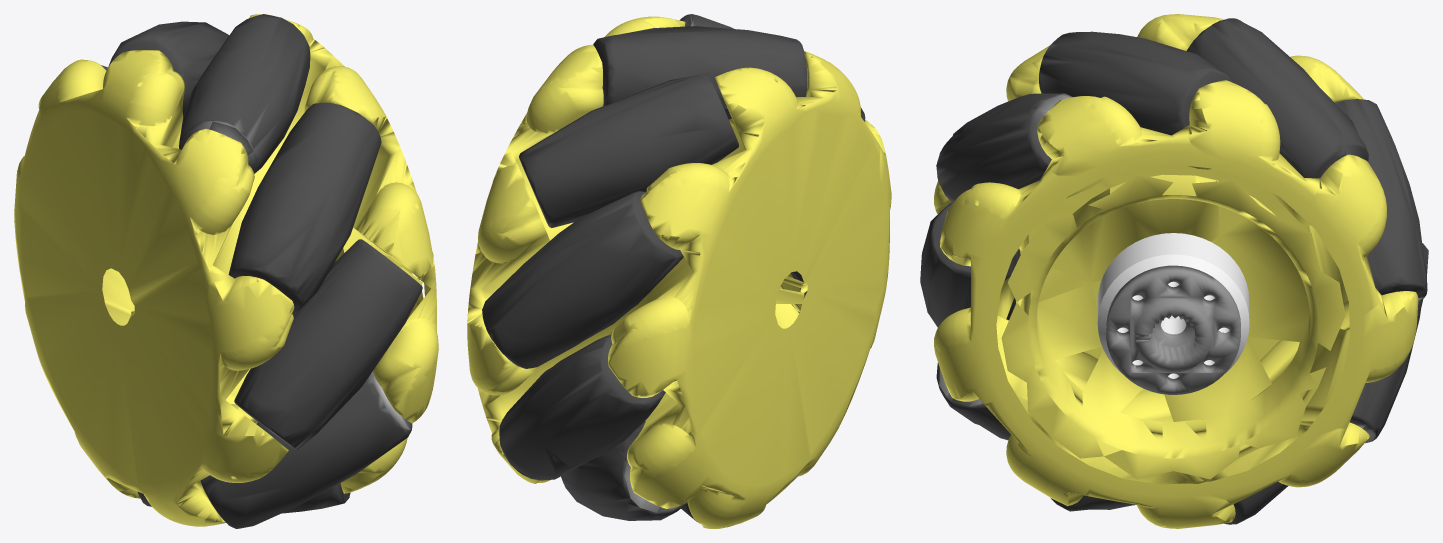
File: rear_right_wheel_link.dae
The picture shows the model from 3 angles, left to right: view 1: azimuth 30°, elevation 25°; view 2: azimuth 150°, elevation 25°; view 3: azimuth 270°, elevation 25°; orthographic projection.
Visible parts, largest first — view 1: node19, node1, node15, node17, node5, node3, node7; view 2: node19, node13, node3, node11, node17, node9; view 3: node19, node20, node17, node3, node15, node13, node0, node1, node11, node5, node9, node7.
Boxes of the visible parts, x1,y1,x2,y2 form: node19: (14,14,438,526); node1: (234,239,422,449); node15: (228,102,381,313); node17: (179,14,310,173); node5: (200,372,412,528); node3: (108,21,229,116); node7: (137,483,350,513); node19: (467,16,891,528); node13: (482,191,683,368); node3: (519,74,738,227); node11: (499,334,665,480); node17: (593,26,807,119); node9: (561,421,687,520); node19: (934,14,1418,528); node20: (1106,265,1240,394); node17: (1039,31,1232,135); node3: (1187,18,1368,178); node15: (936,93,1072,202); node13: (1335,99,1427,302); node0: (1097,233,1249,378); node1: (920,202,1020,327); node11: (1350,243,1428,443); node5: (936,363,1010,440); node9: (1224,482,1288,524); node7: (1051,495,1136,511).
Size of the model in its own units: 0.0337 by 0.0603 by 0.0601.
